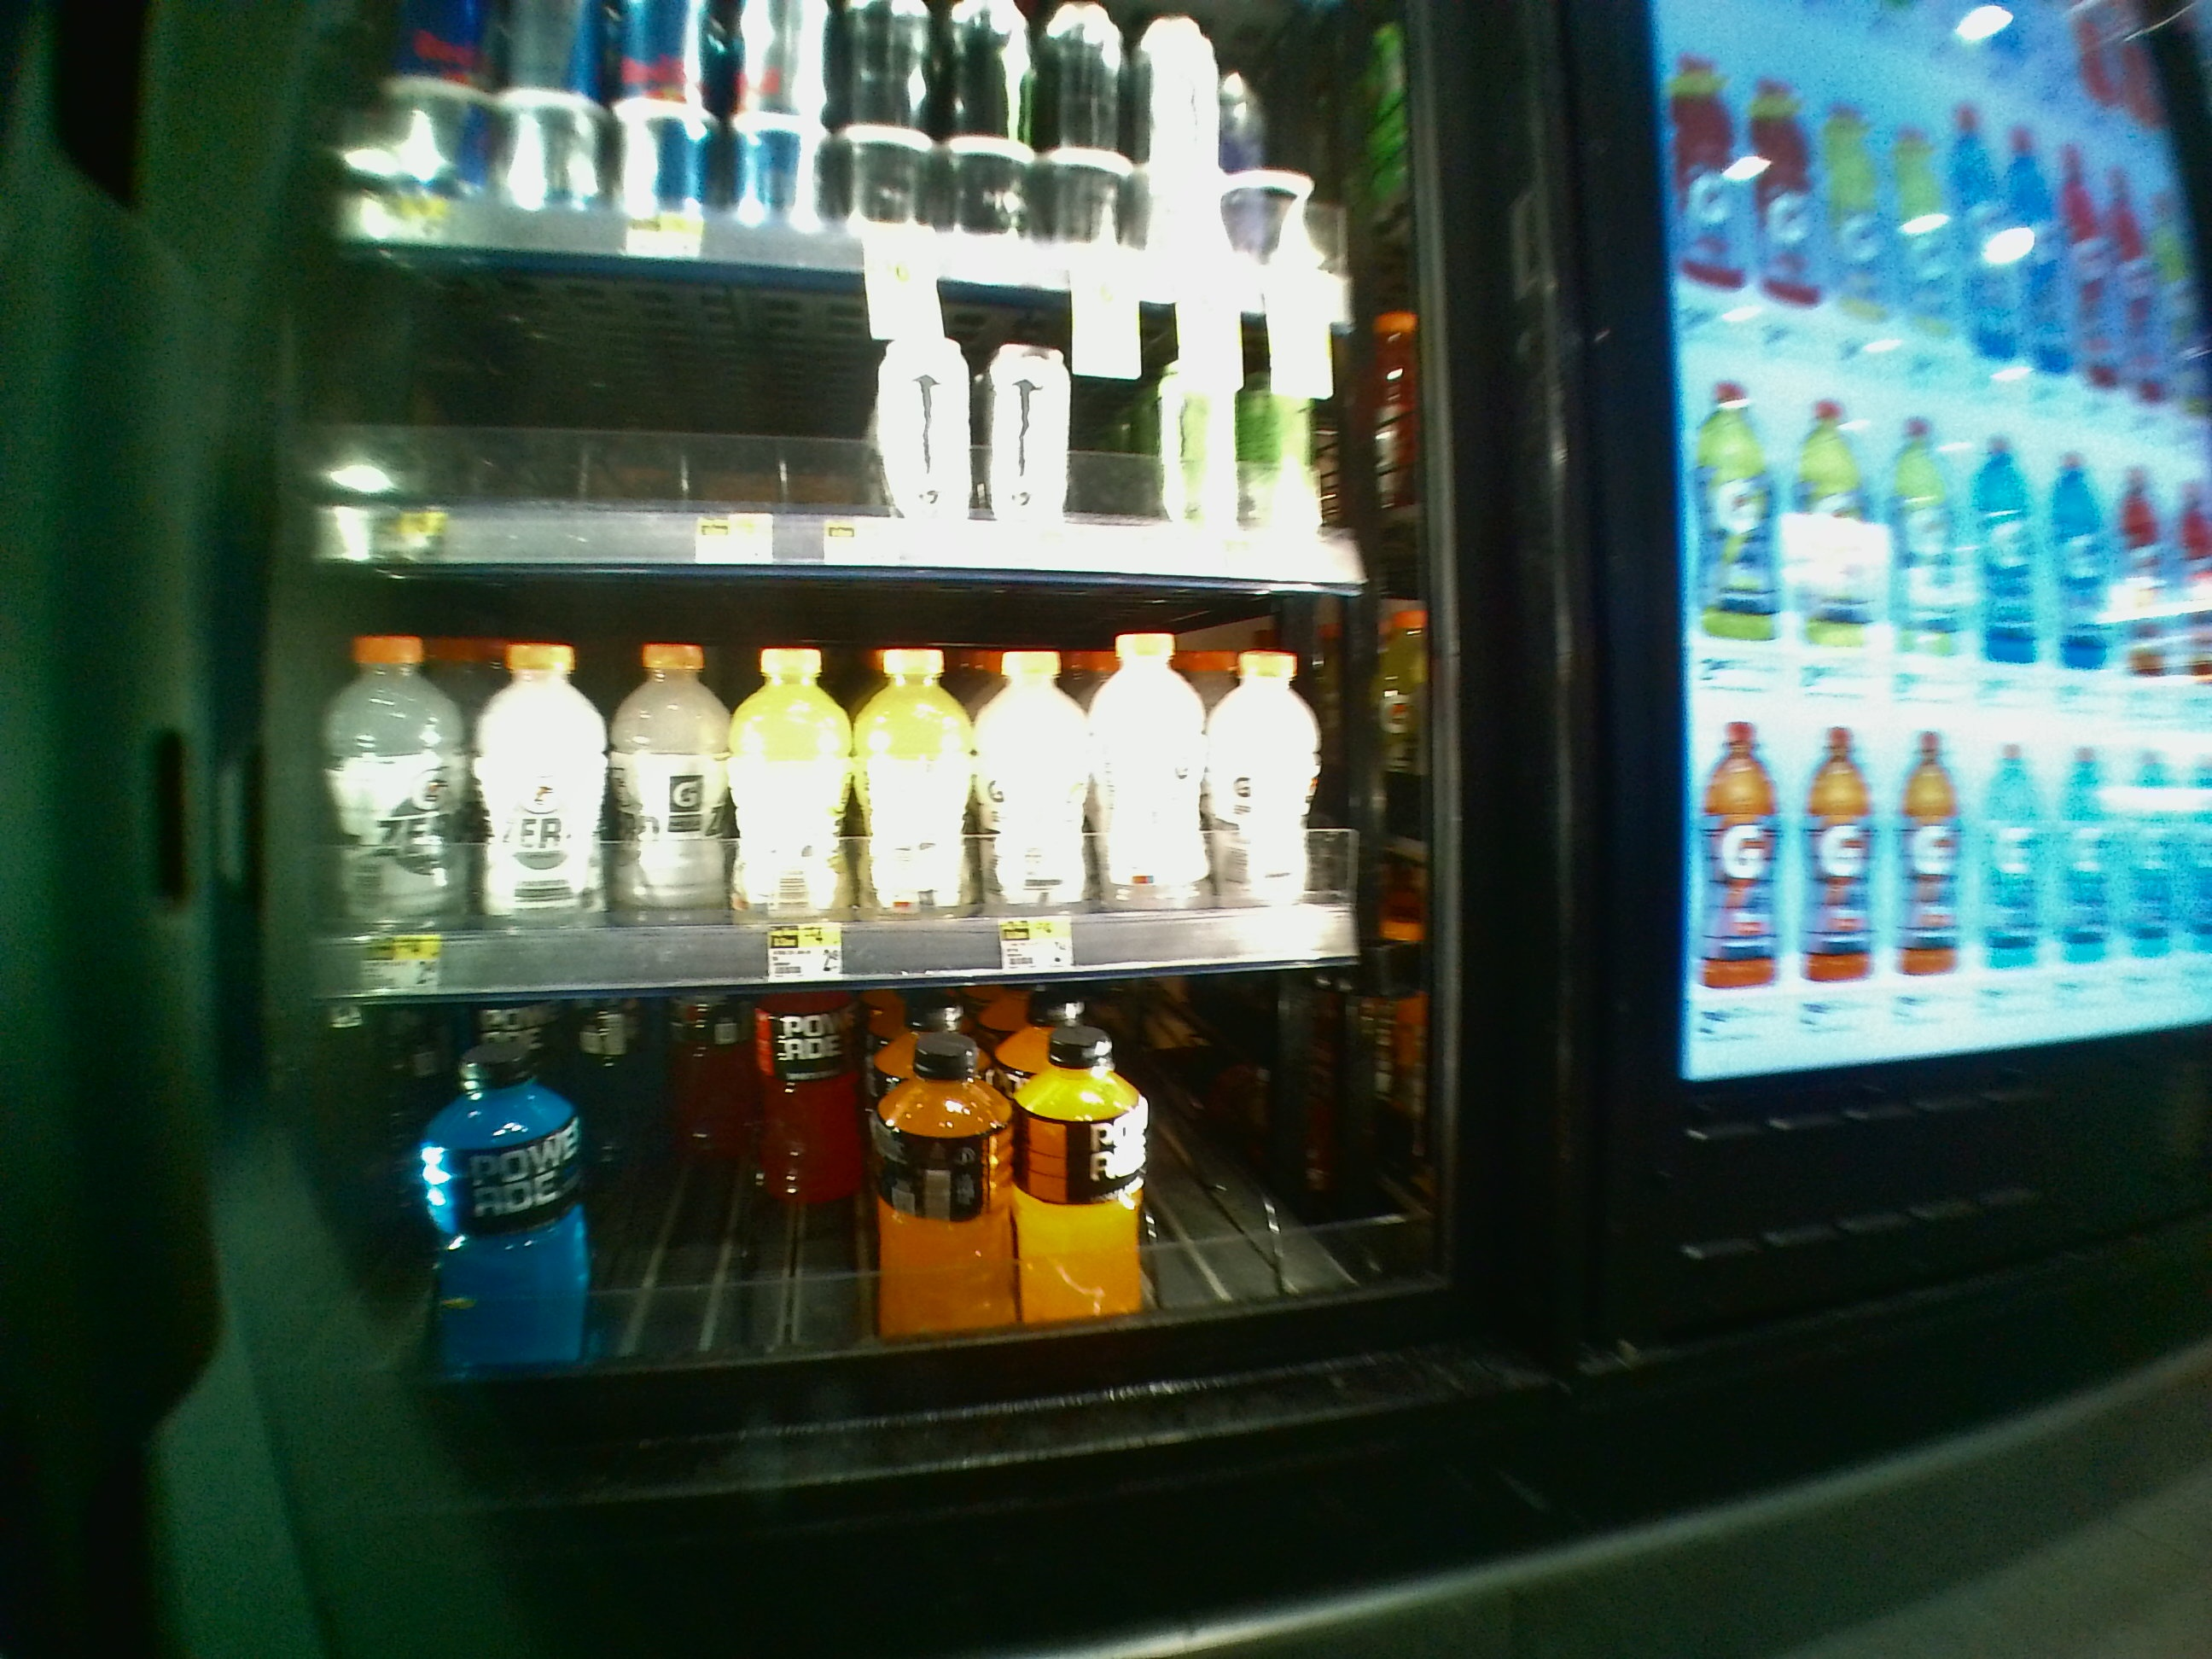shelf: (284, 563, 1442, 990)
